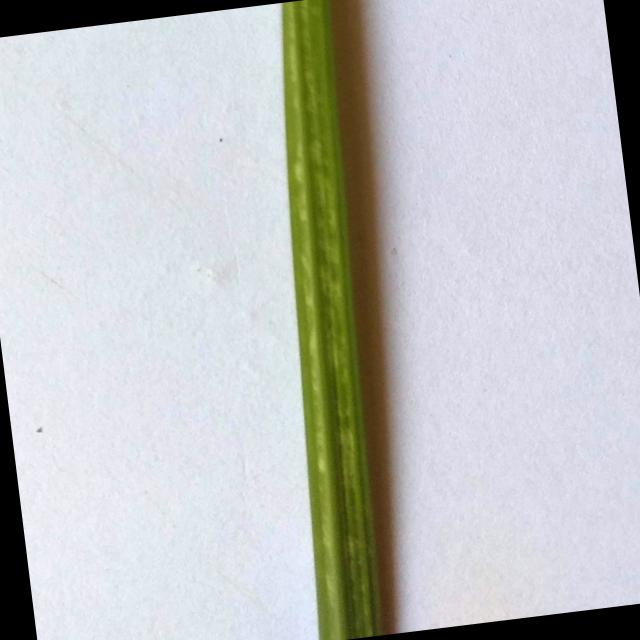Rice_Healthy: (282, 0, 380, 640)
